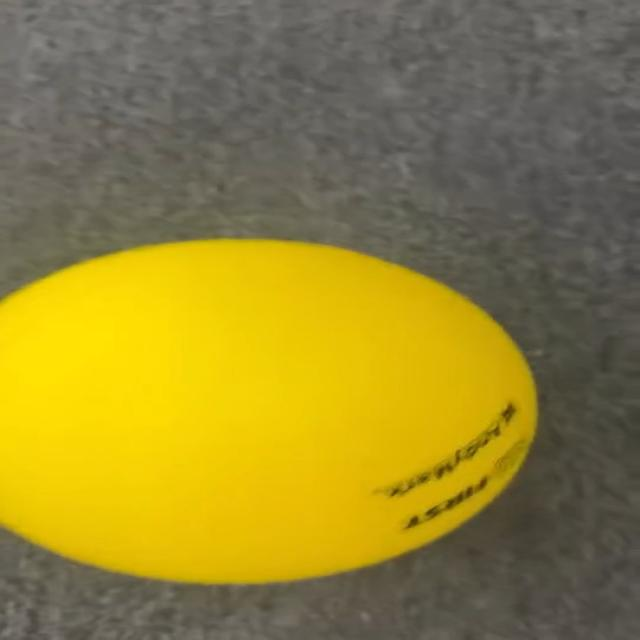Fuels: (5, 240, 538, 580)
